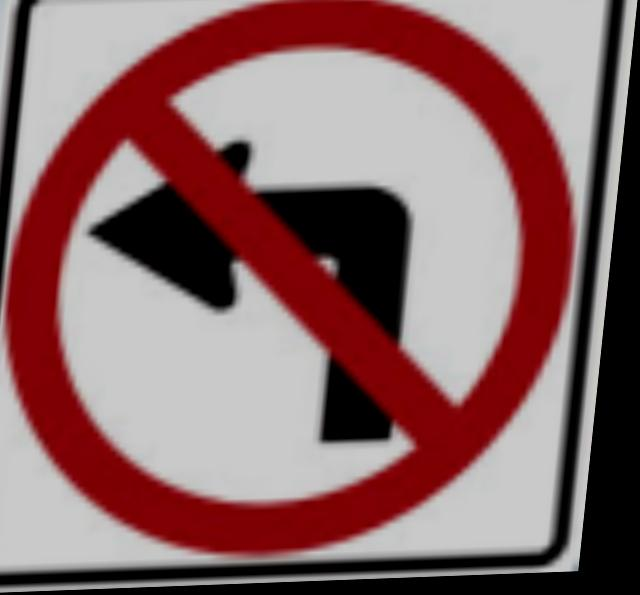not_turn_left: (0, 0, 606, 571)
